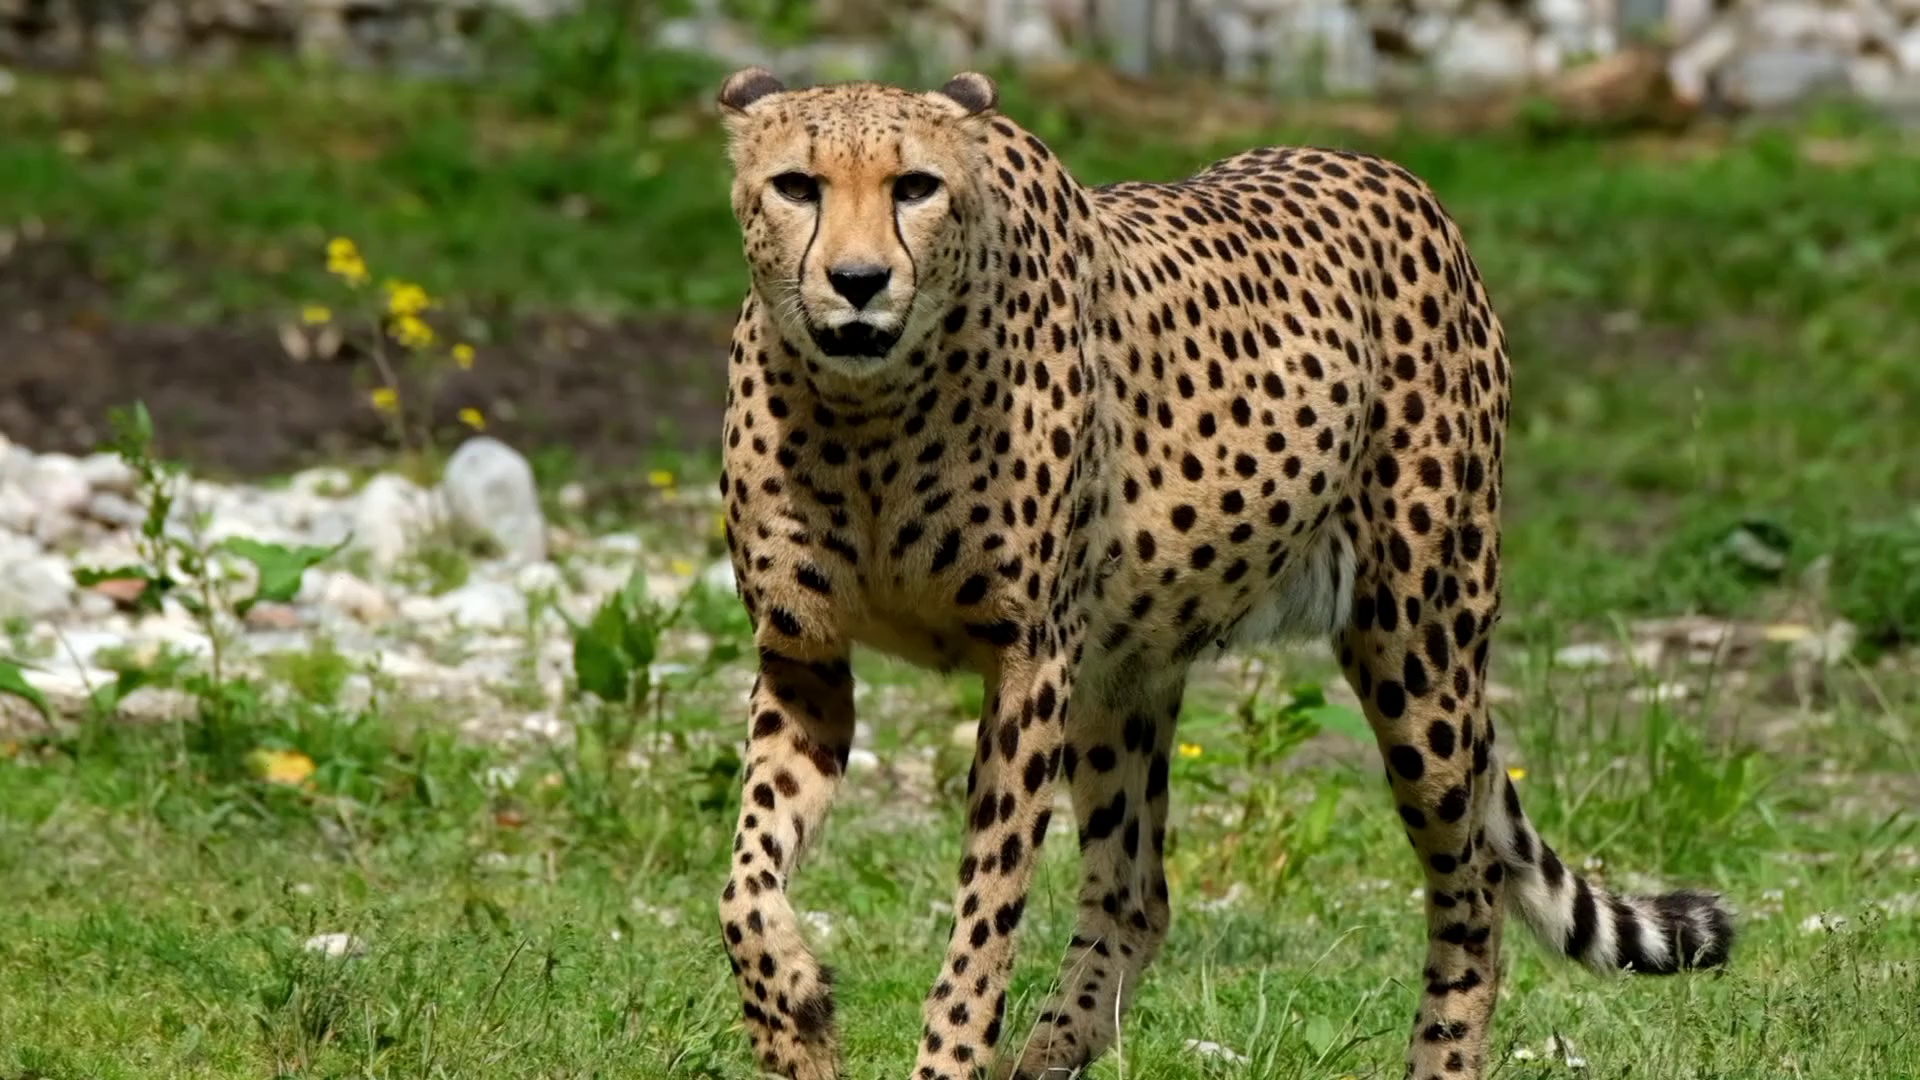Cheetah: (704, 65, 1739, 1080)
Elephant: (539, 373, 915, 683)
Tiger: (365, 3, 1502, 874)
